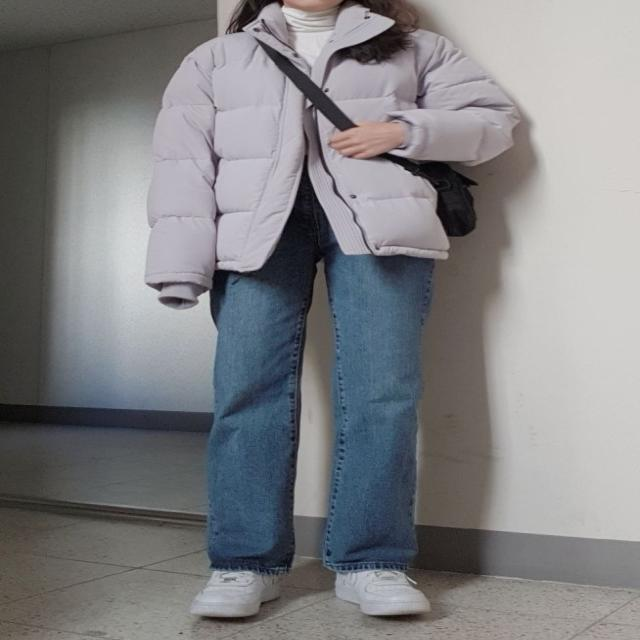denimpants: (207, 183, 437, 570)
padding: (150, 2, 520, 306)
